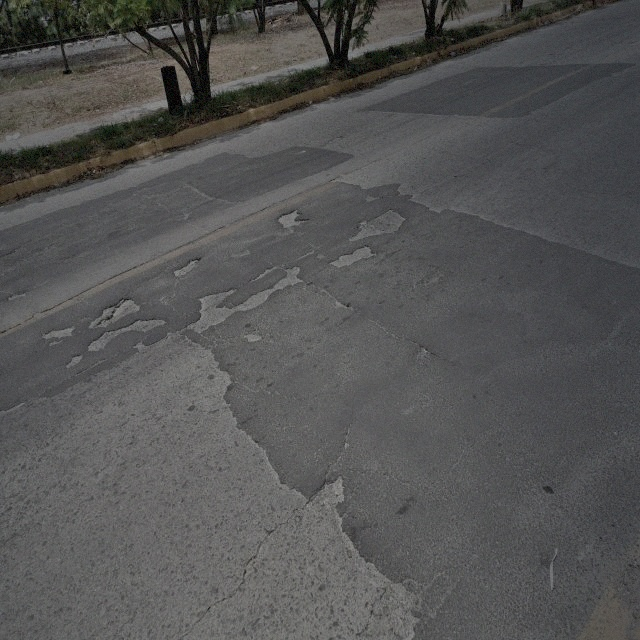pothole: (188, 259, 303, 334), (89, 314, 166, 358), (348, 203, 407, 245), (90, 293, 141, 332), (330, 241, 375, 270), (276, 204, 306, 232), (173, 254, 202, 280), (41, 327, 75, 343), (243, 331, 265, 346), (66, 352, 83, 368)
